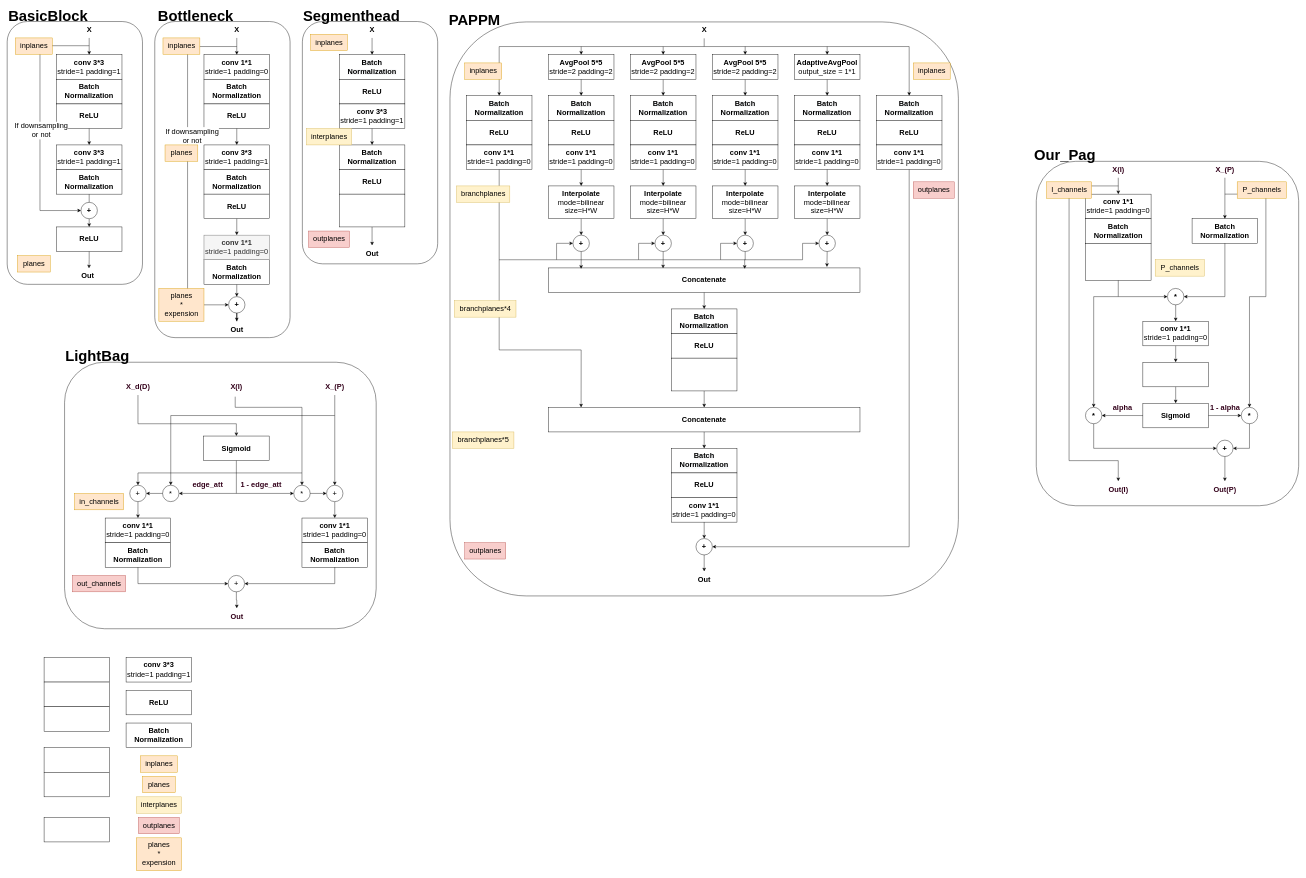
The diagram is 1306 pixels wide and 878 high, and some of its shapes have lost their labels. Each missing label, with the box of its shape:
conv 3*3 stride=1 padding=0 bias=True: (339, 194, 405, 227)
conv 3*3 stride=1 padding=1 groups=4: (671, 358, 737, 391)
Interpolate mode=bilinear size=H_P*W_P: (1085, 243, 1151, 280)
Sum: (1142, 362, 1208, 387)
